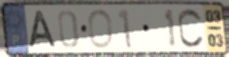0: (57, 9, 80, 50)
1: (117, 8, 134, 50), (163, 7, 177, 50)
A: (28, 10, 58, 50)
C: (176, 7, 206, 50)
O: (87, 8, 115, 50)
